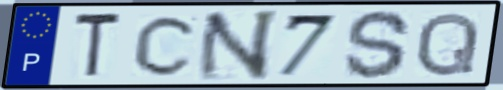7: (276, 12, 341, 78)
C: (130, 12, 202, 78)
N: (193, 8, 283, 83)
Q: (412, 10, 482, 79)
S: (342, 8, 415, 81)
T: (72, 10, 125, 81)
